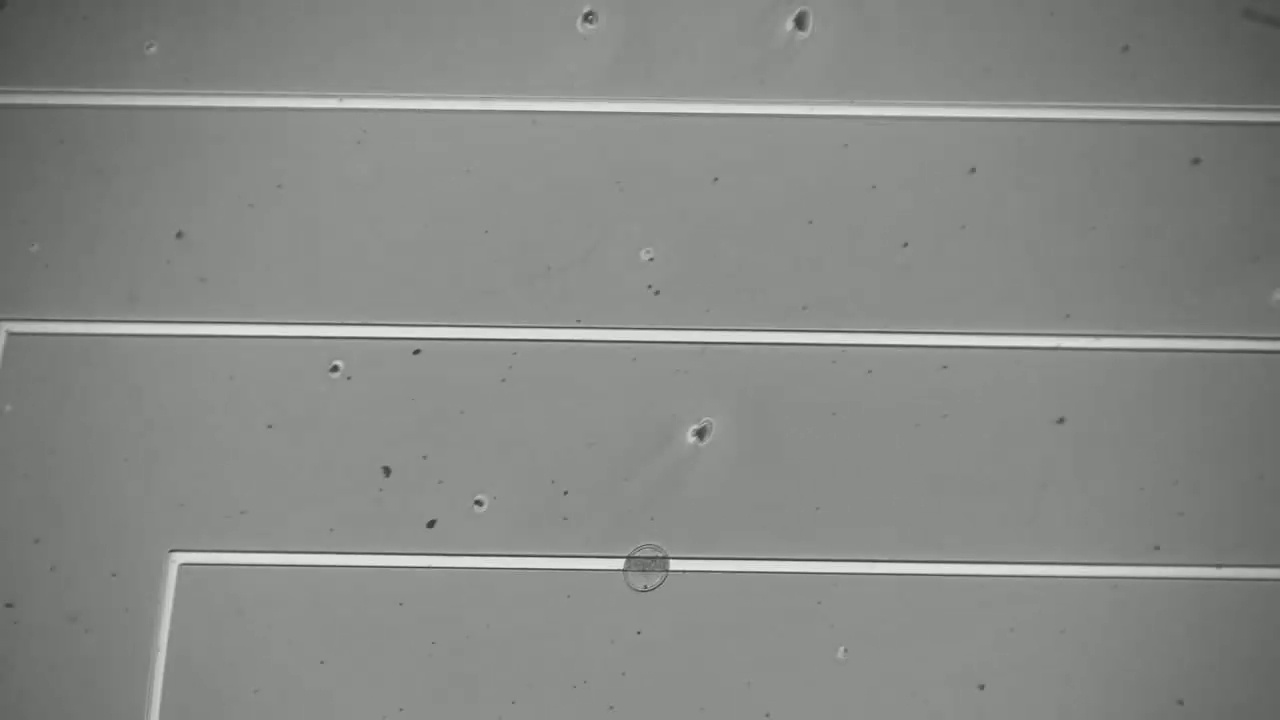gray_line: (607, 548, 686, 583)
